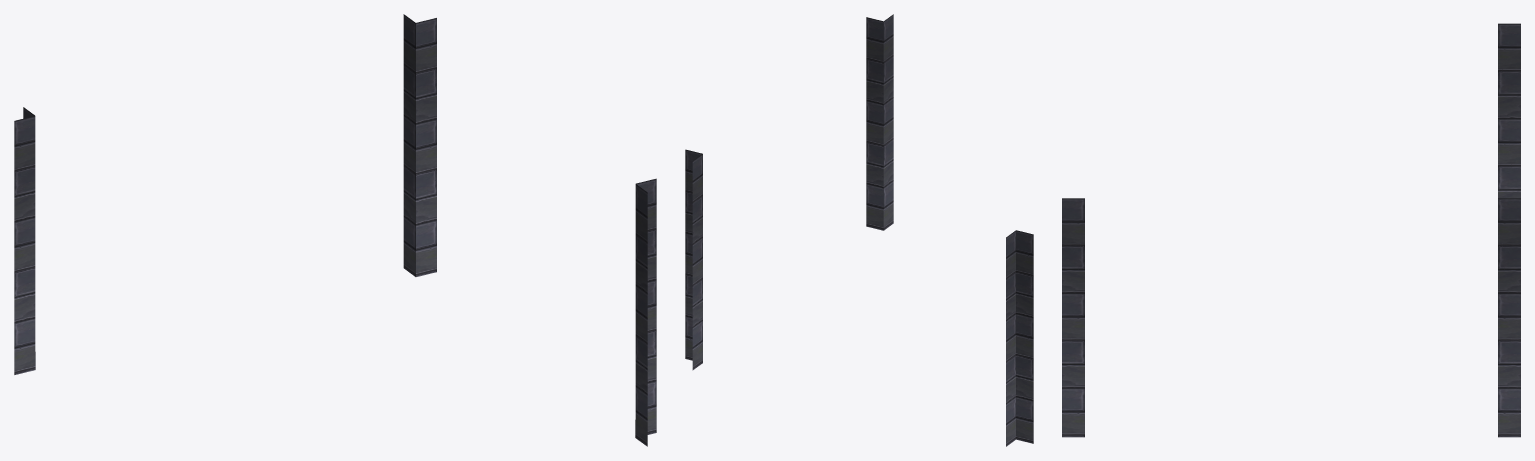
The model's file is dungeon_wall_corners3.FBX.
3 views of the same model, side by side, from view 1: azimuth 30°, elevation 25°; view 2: azimuth 150°, elevation 25°; view 3: azimuth 270°, elevation 25° (orthographic). The views are drawn at different scales.
Parts seen in each view (by area): view 1: wall_corners; view 2: wall_corners; view 3: wall_corners.
Part boxes in pixels (left/top/right/bottom): wall_corners: left=14, top=14, right=656, bottom=446; wall_corners: left=685, top=14, right=1033, bottom=446; wall_corners: left=1062, top=23, right=1520, bottom=437.
Size of the model in its own units: 1000 by 575 by 1000.
1 material, 1 textured.
